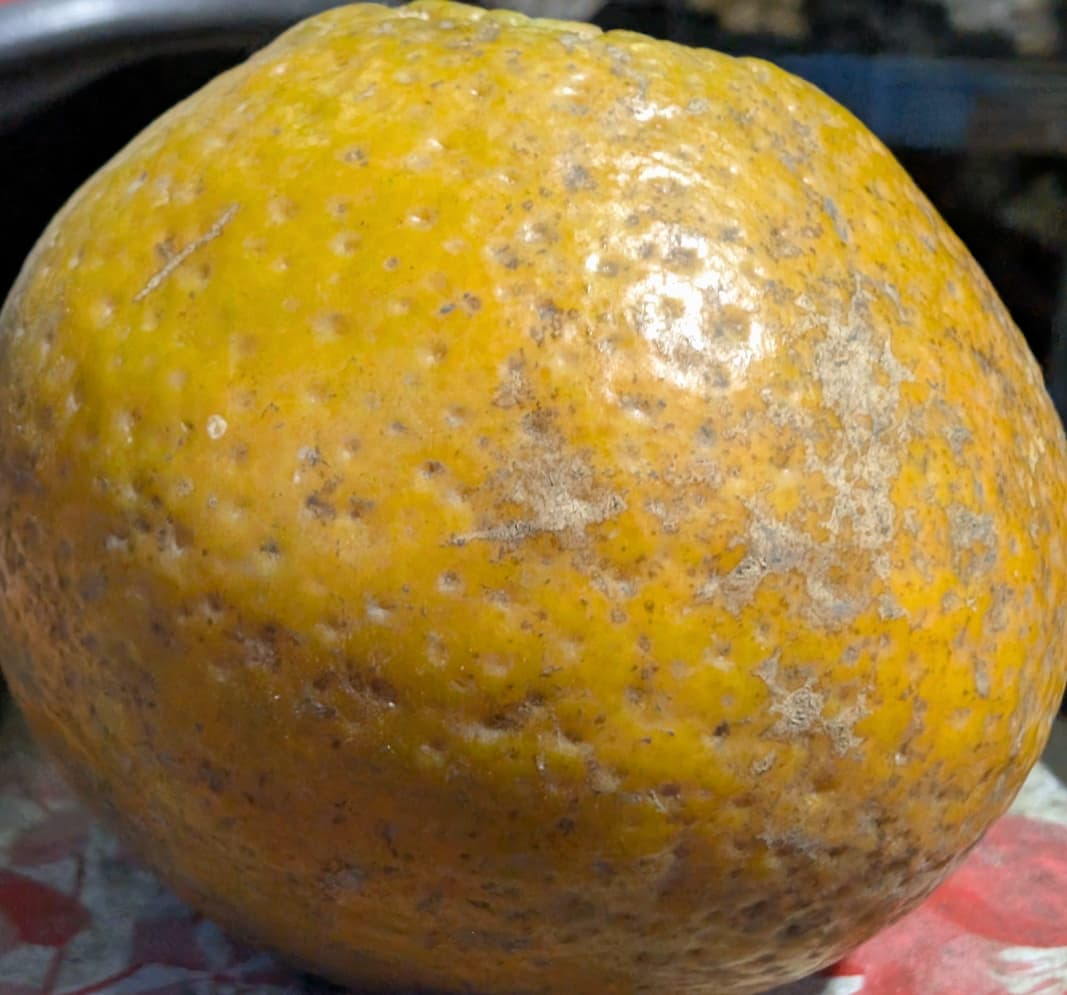orange: (103, 45, 763, 873)
